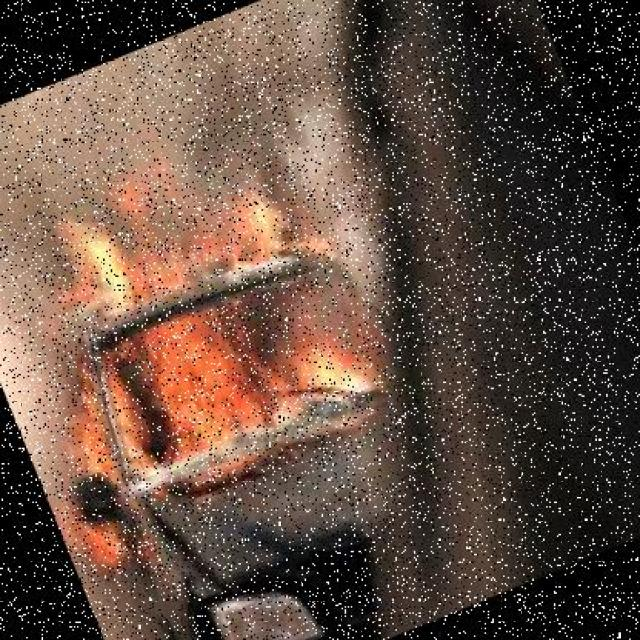fire: (0, 123, 405, 528)
